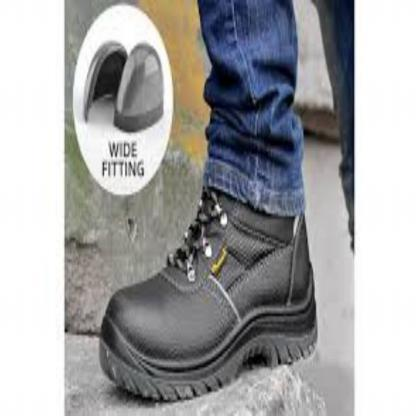bota: (97, 152, 343, 414)
